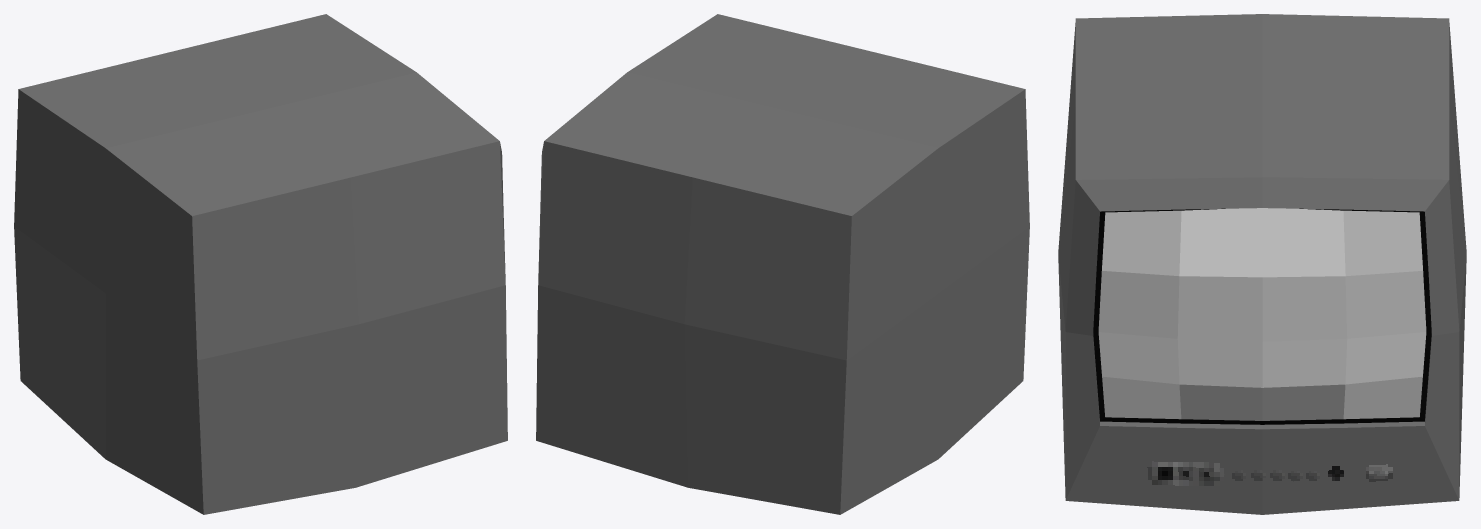
Rendered from tele2.glb.
The picture shows the model from 3 angles, left to right: view 1: azimuth 30°, elevation 25°; view 2: azimuth 150°, elevation 25°; view 3: azimuth 270°, elevation 25°; orthographic projection. The views are drawn at different scales.
Visible parts, largest first — view 1: Cube; view 2: Cube; view 3: Cube, pantalla, pantalla.001.
Part boxes in pixels (box(x1,y1,x2,y2)): Cube: box(14, 14, 507, 514); Cube: box(536, 14, 1029, 514); Cube: box(1058, 14, 1466, 514); pantalla: box(1098, 208, 1426, 420); pantalla.001: box(1093, 208, 1431, 424).
Size of the model in its own units: 2.08 by 1.87 by 2.07.
Materials: 3 (1 with a texture image).
